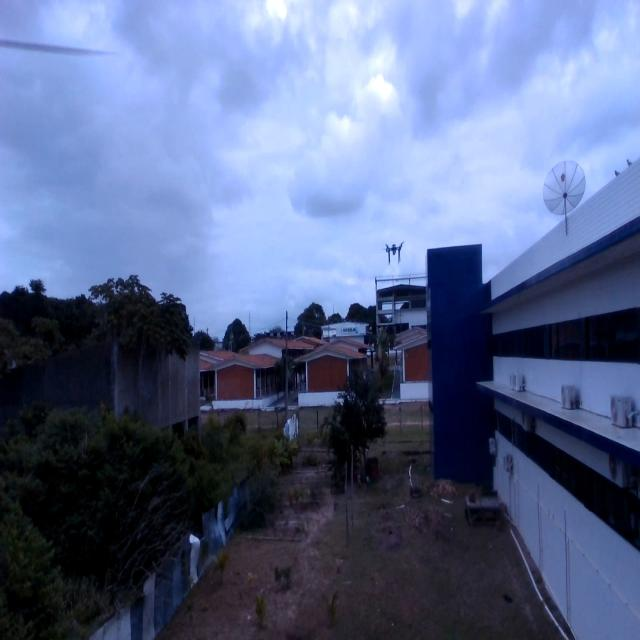-uav-: (384, 227, 404, 271)
